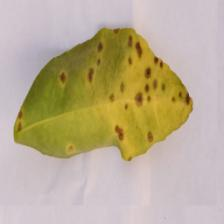canker: (49, 30, 173, 153)
